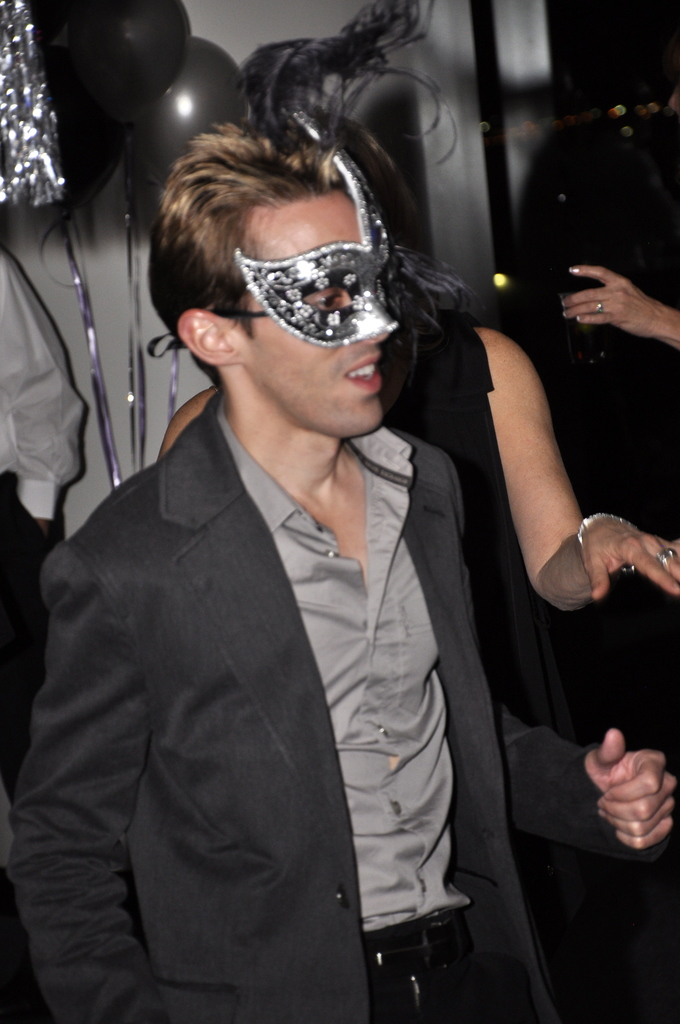Human_hand: (549, 508, 672, 618), (586, 725, 677, 851), (560, 265, 668, 344)
